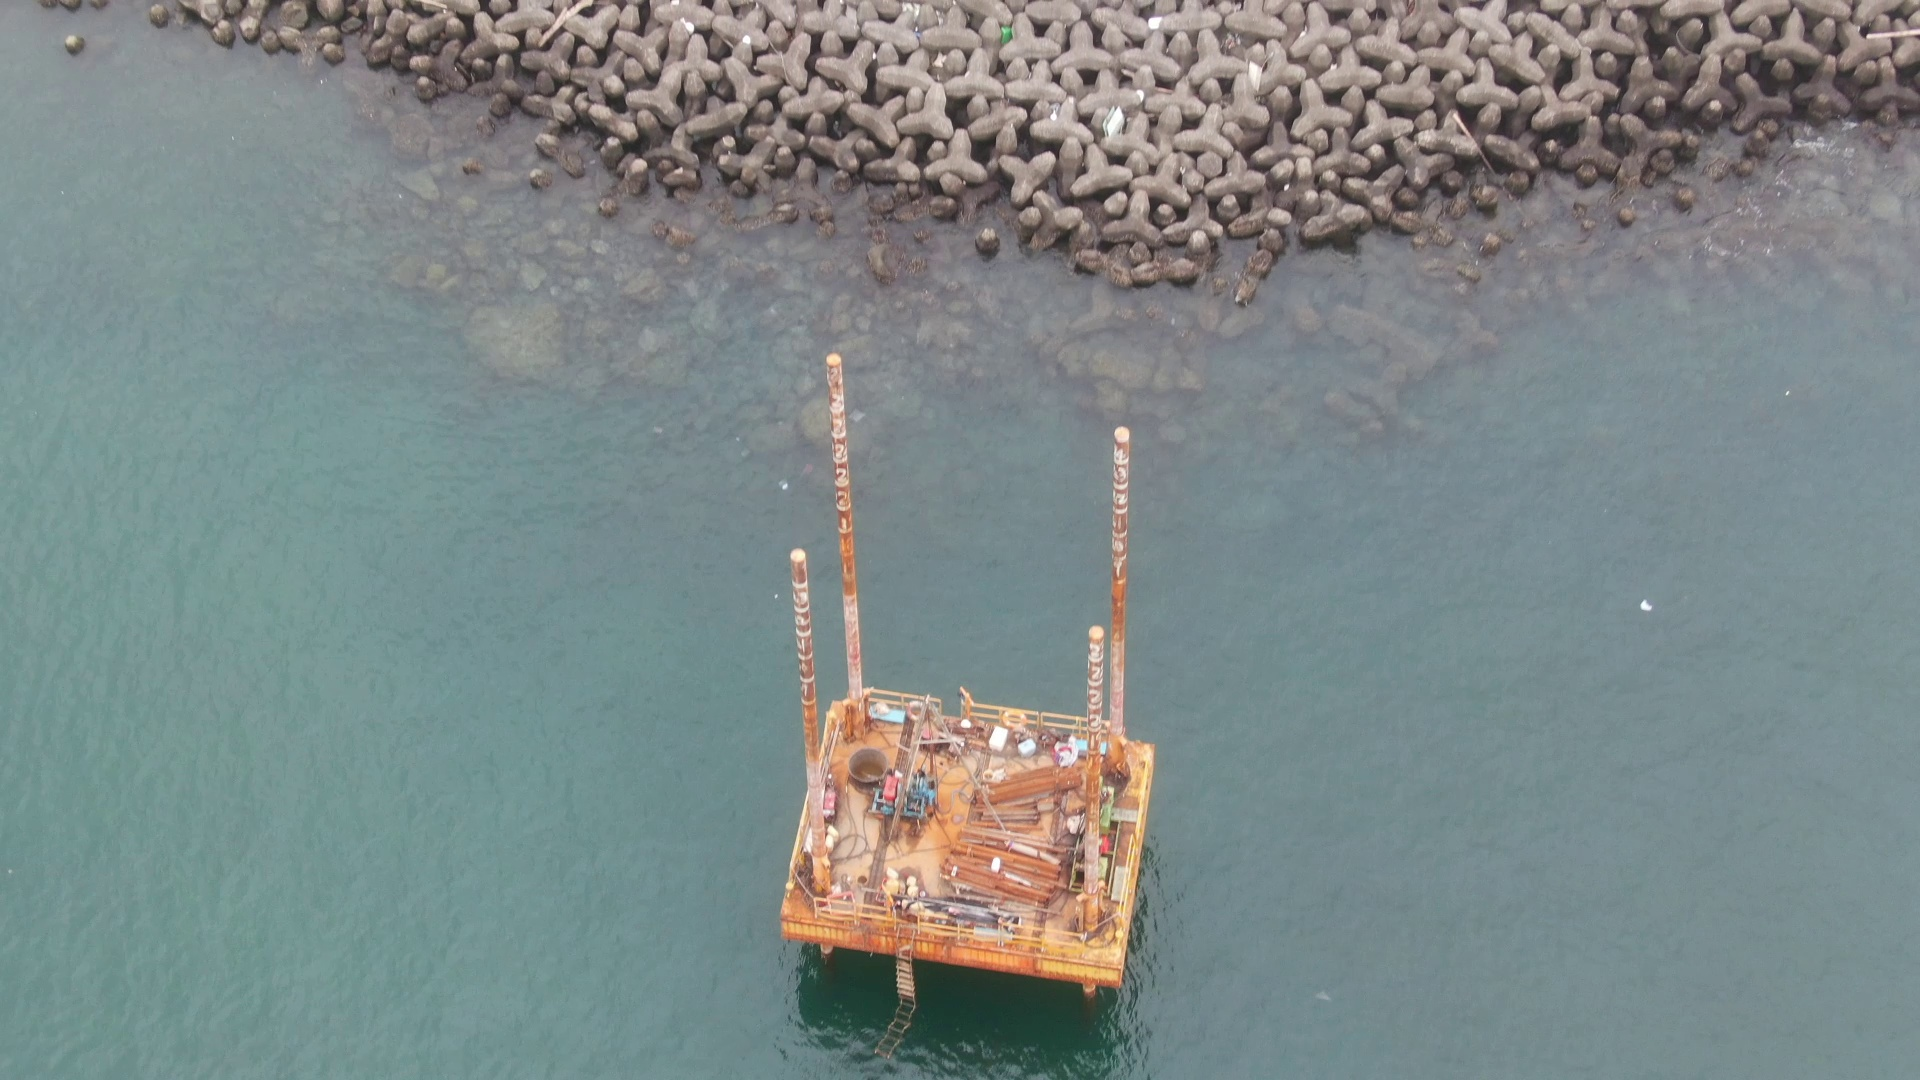garbage: (1091, 96, 1141, 148), (978, 17, 1033, 57)
